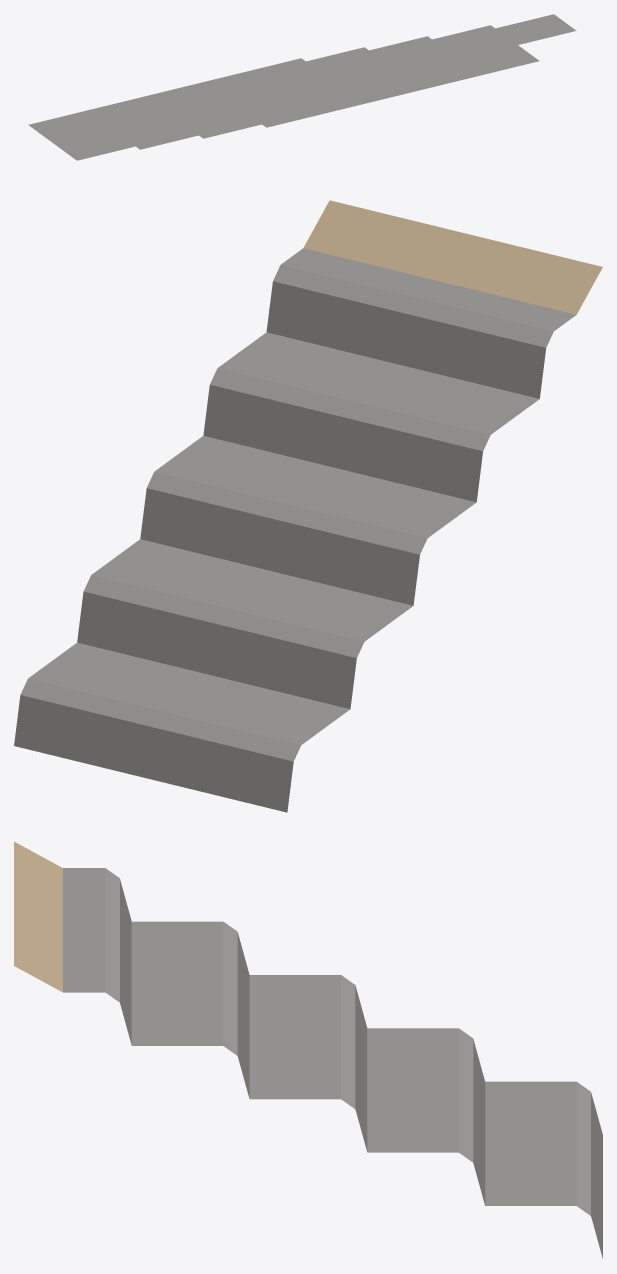
Rendered from Cliff_Terrain_Path_Steps_Center_Top.glb.
3 renders of one model, top to bottom at view 1: azimuth 30°, elevation 25°; view 2: azimuth 150°, elevation 25°; view 3: azimuth 270°, elevation 25°, orthographic. The views are drawn at different scales.
Visible parts, largest first — view 1: Cliff_Terrain_Path_Steps_Center_Top; view 2: Cliff_Terrain_Path_Steps_Center_Top; view 3: Cliff_Terrain_Path_Steps_Center_Top.
Boxes of the visible parts, x1=… form: Cliff_Terrain_Path_Steps_Center_Top: x1=28, y1=14, x2=576, y2=160; Cliff_Terrain_Path_Steps_Center_Top: x1=14, y1=200, x2=602, y2=812; Cliff_Terrain_Path_Steps_Center_Top: x1=14, y1=841, x2=602, y2=1258.
Size of the model in its own units: 1 by 1.1 by 2.
